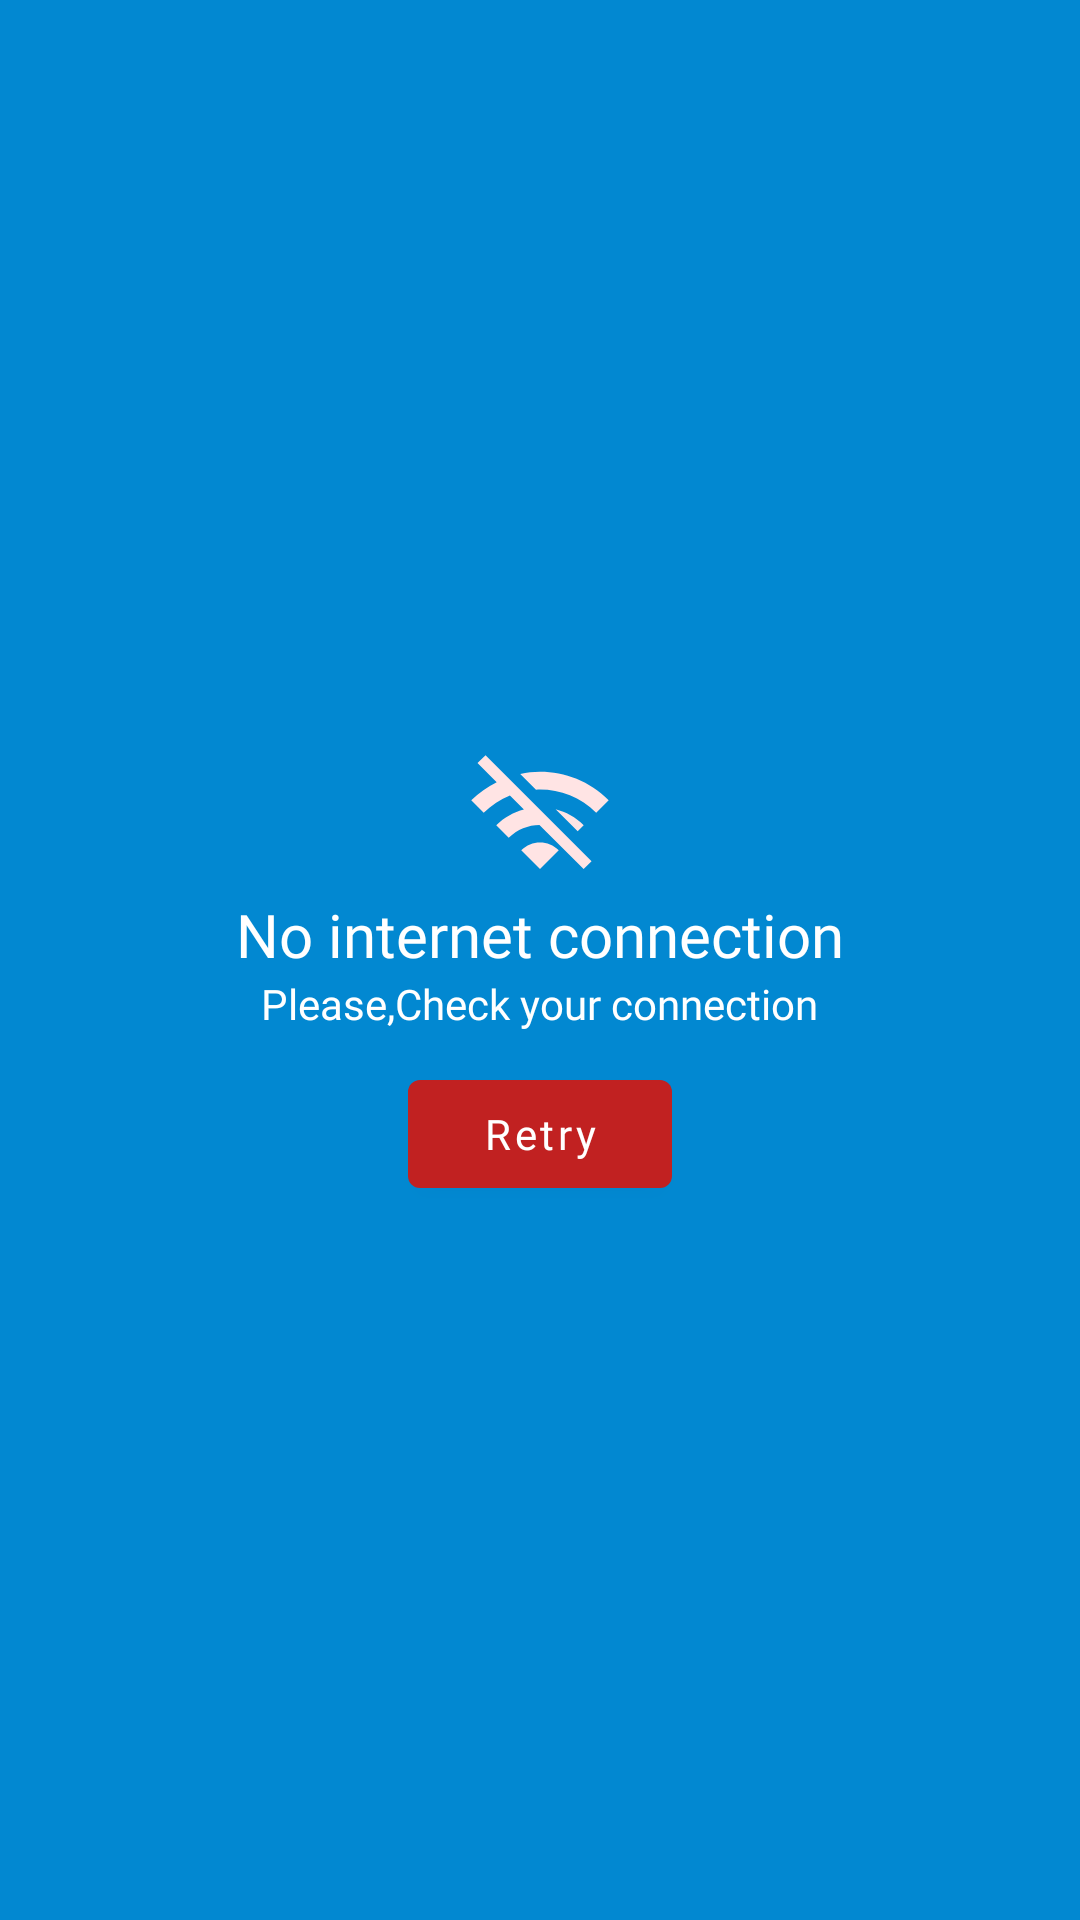

Where to tap for icons on this 1080px×1920px app screen, as (x,y):
wifi off: (540,812)
